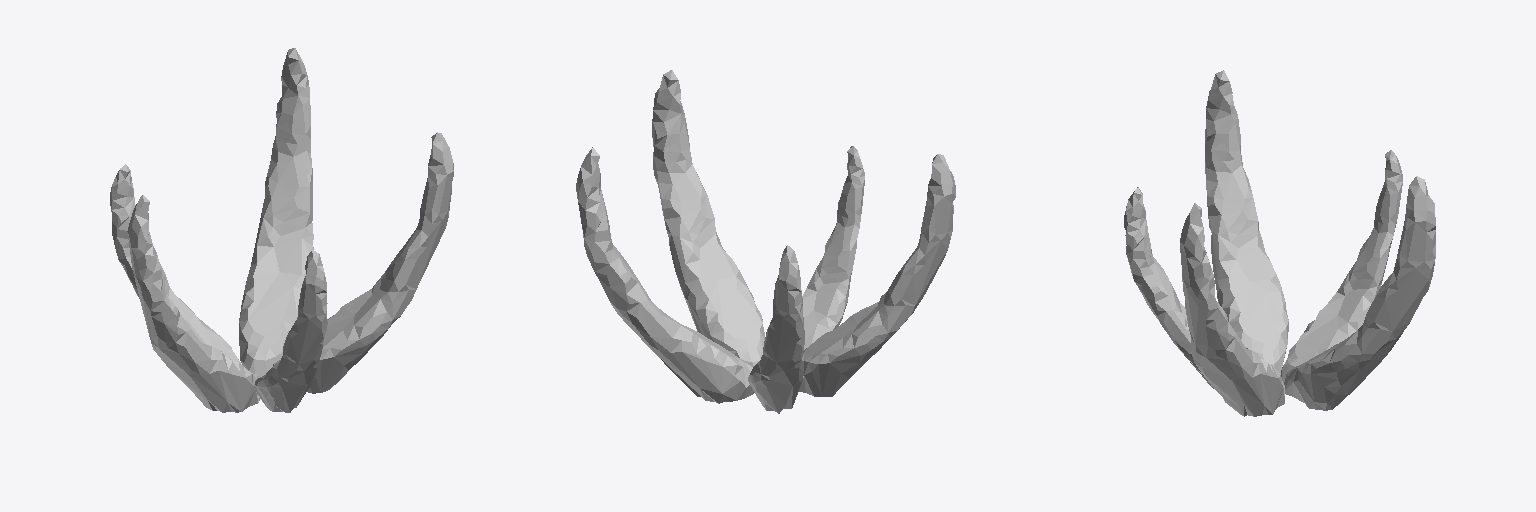
The model's file is obsidian.obj.
3 renders of one model, left to right at view 1: azimuth 30°, elevation 25°; view 2: azimuth 150°, elevation 25°; view 3: azimuth 270°, elevation 25°, orthographic.
Visible parts, largest first — view 1: Cube.003_Cube.007; view 2: Cube.003_Cube.007; view 3: Cube.003_Cube.007.
Part boxes in pixels (x1,y1,x2,y2): Cube.003_Cube.007: (110,48,453,412); Cube.003_Cube.007: (576,70,955,413); Cube.003_Cube.007: (1124,70,1435,416).
Size of the model in its own units: 16.12 by 13.1 by 14.02.